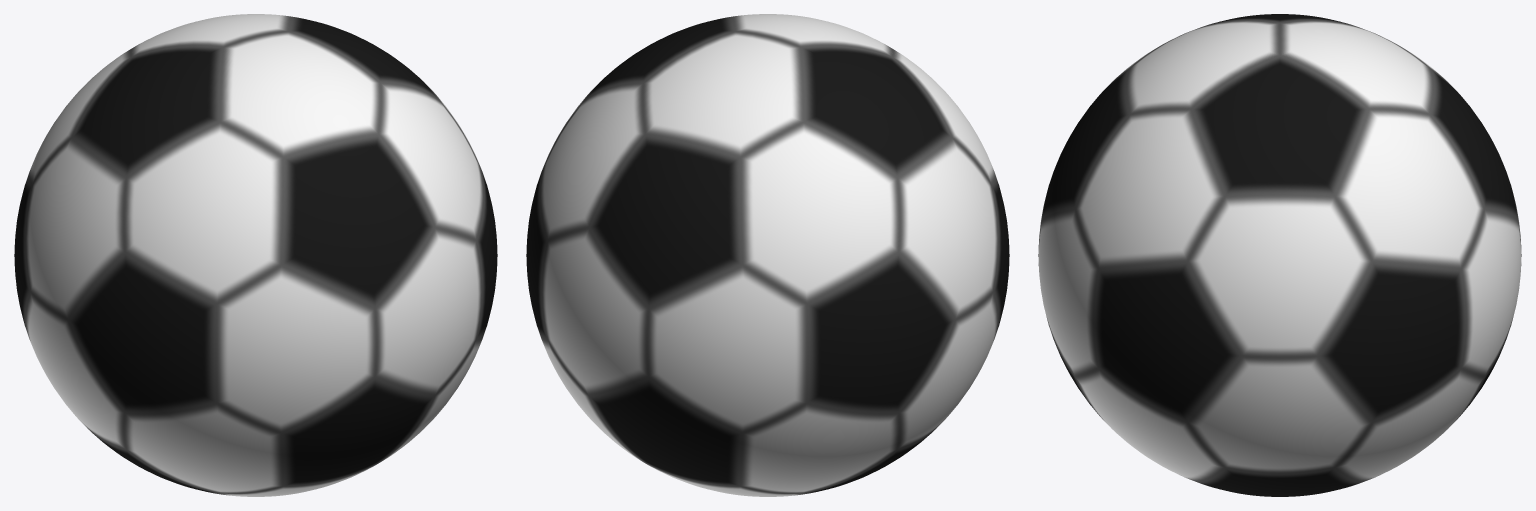
File: ball-DoW3ZhhV.glb
The picture shows the model from 3 angles, left to right: view 1: azimuth 30°, elevation 25°; view 2: azimuth 150°, elevation 25°; view 3: azimuth 270°, elevation 25°; orthographic projection.
Parts seen in each view (by area): view 1: ball; view 2: ball; view 3: ball.
Part boxes in pixels (x1,y1,x2,y2): ball: (14,14,497,496); ball: (526,14,1009,496); ball: (1038,14,1521,496).
Bounding box in the file's own units: 0.22 × 0.22 × 0.22.
Materials: 1 (1 with a texture image).
